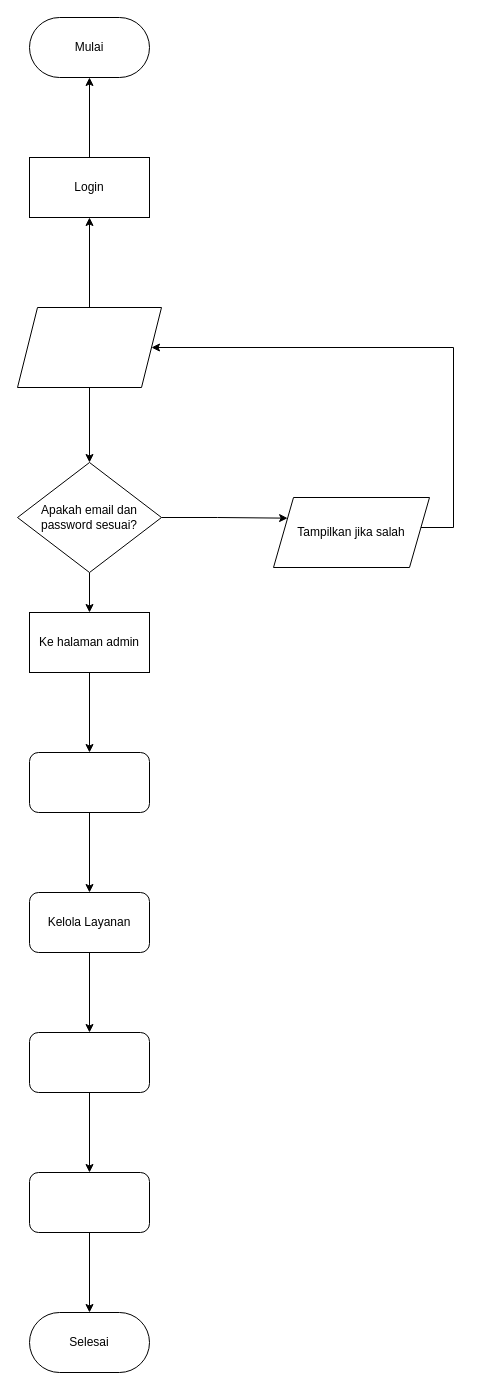
Image size: 479x1390. Some labels were removed from this diagram. The centre of each missing label's shape, as x and y in pixels:
Kelola Informasi: the point at 89,1062
Kelola Users: the point at 89,782
Laporan & Export: the point at 89,1202
Masukan Email dan passsword: the point at 89,347
